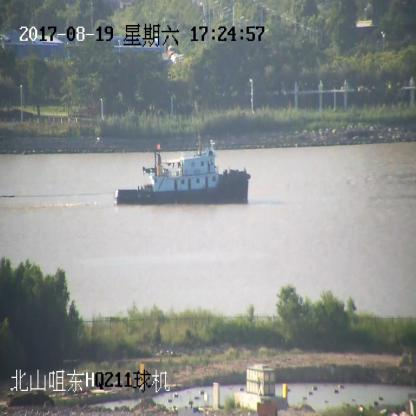Fishing Boat: (114, 144, 252, 206)
